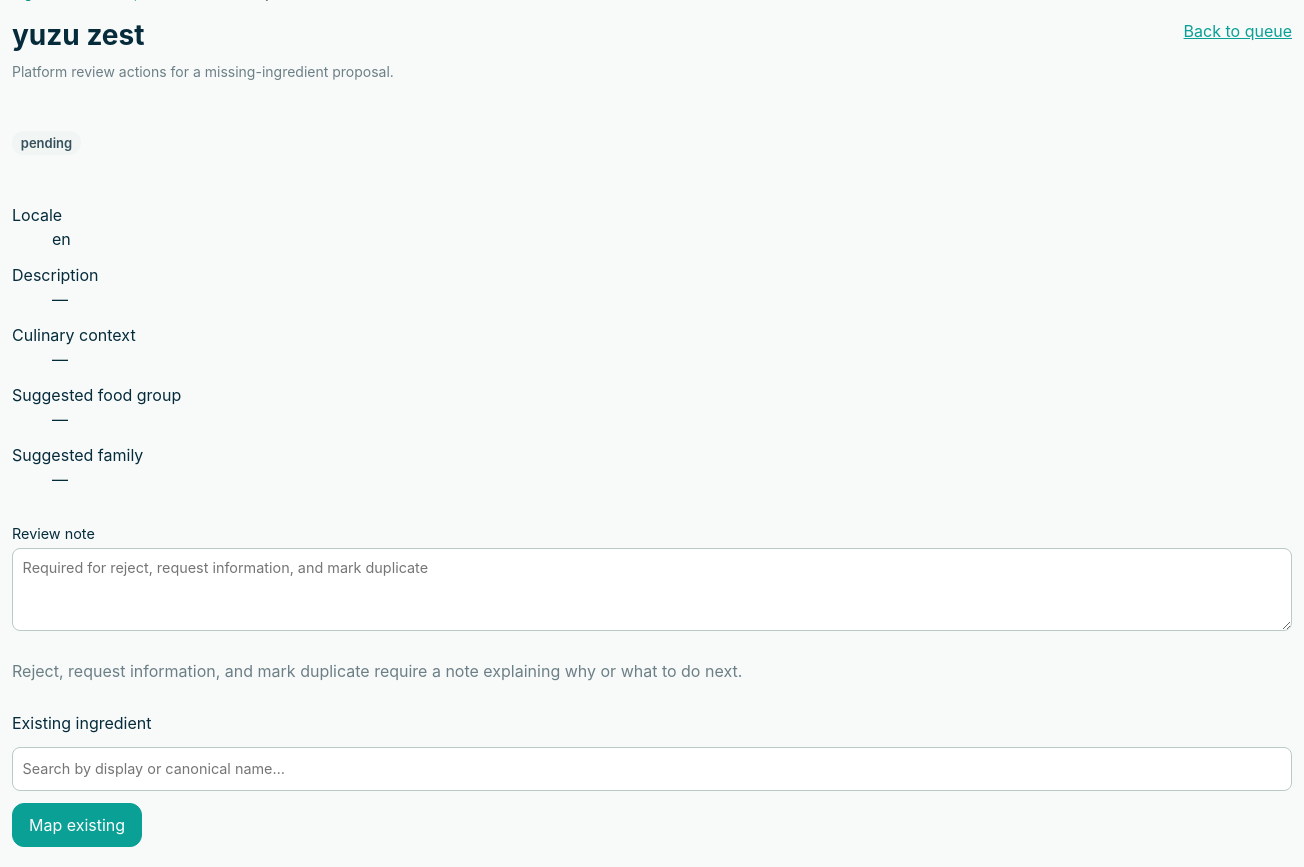
Test case: Ingredient proposal review › shows map-existing API errors without leaving the page stuck
Type "Yuzu" into the dropdown named "Existing ingredient" at (652, 769), box [12,747,1292,791]
(page scrolled)
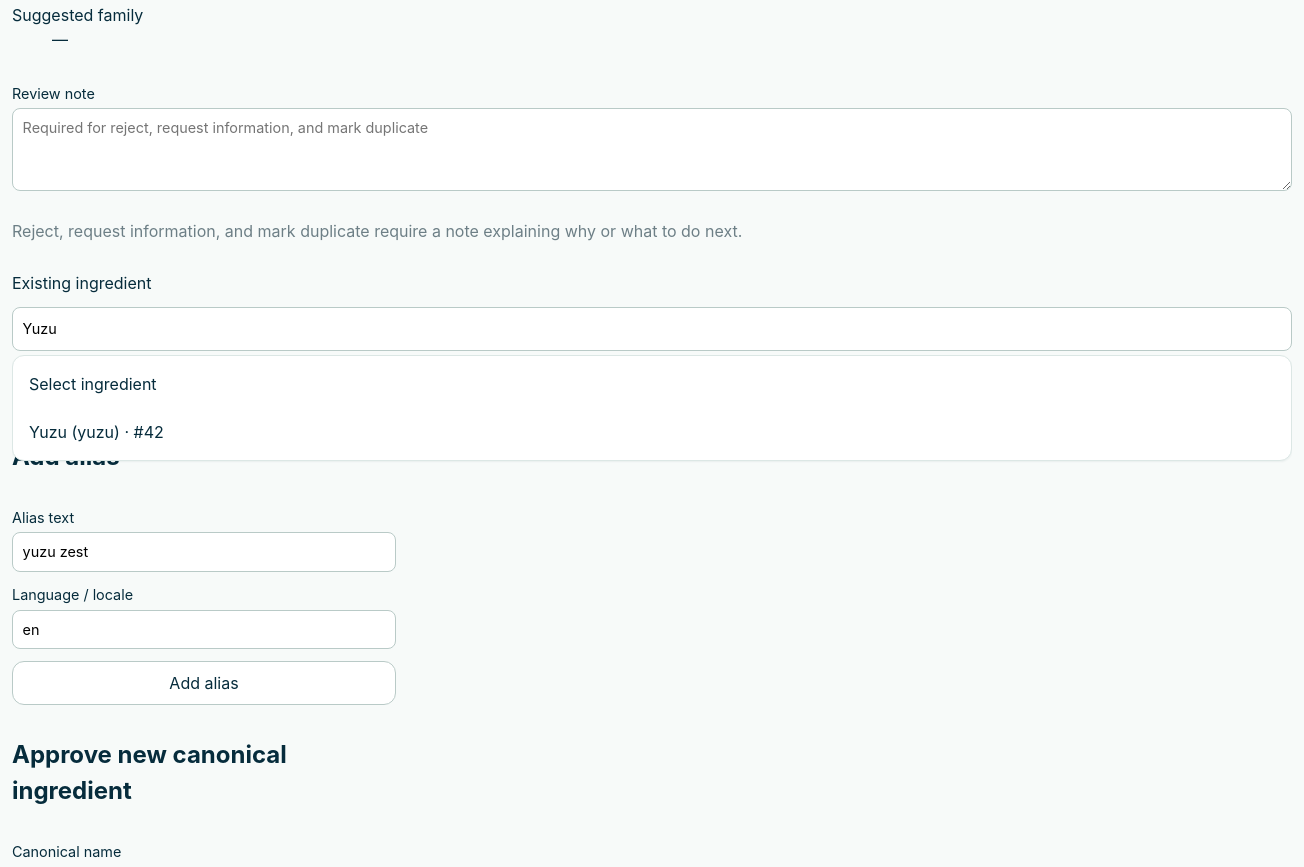
Click the option "Yuzu (yuzu) · #42" at (96, 432), box [17,408,1287,456]
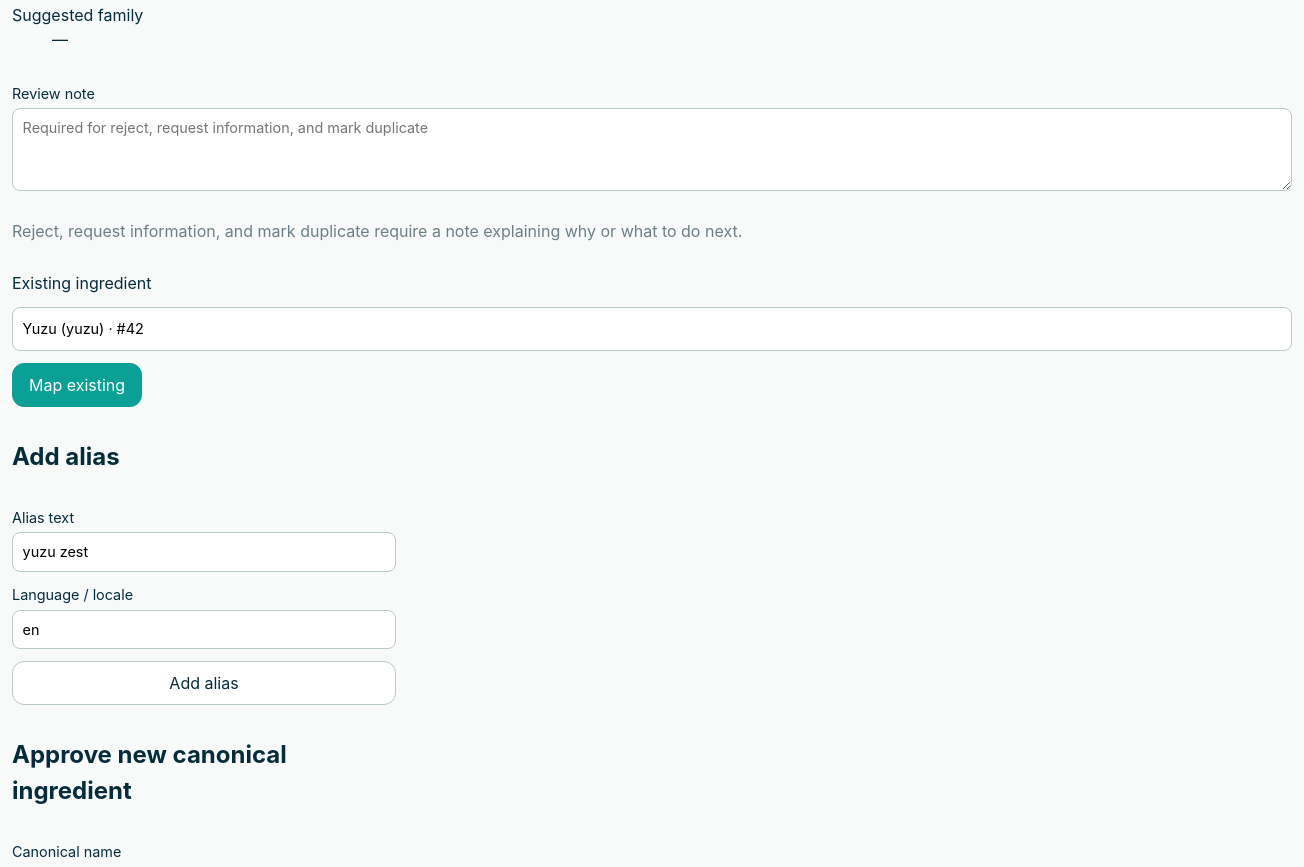
Click the button "Map existing" at (77, 385), box [12,363,142,407]
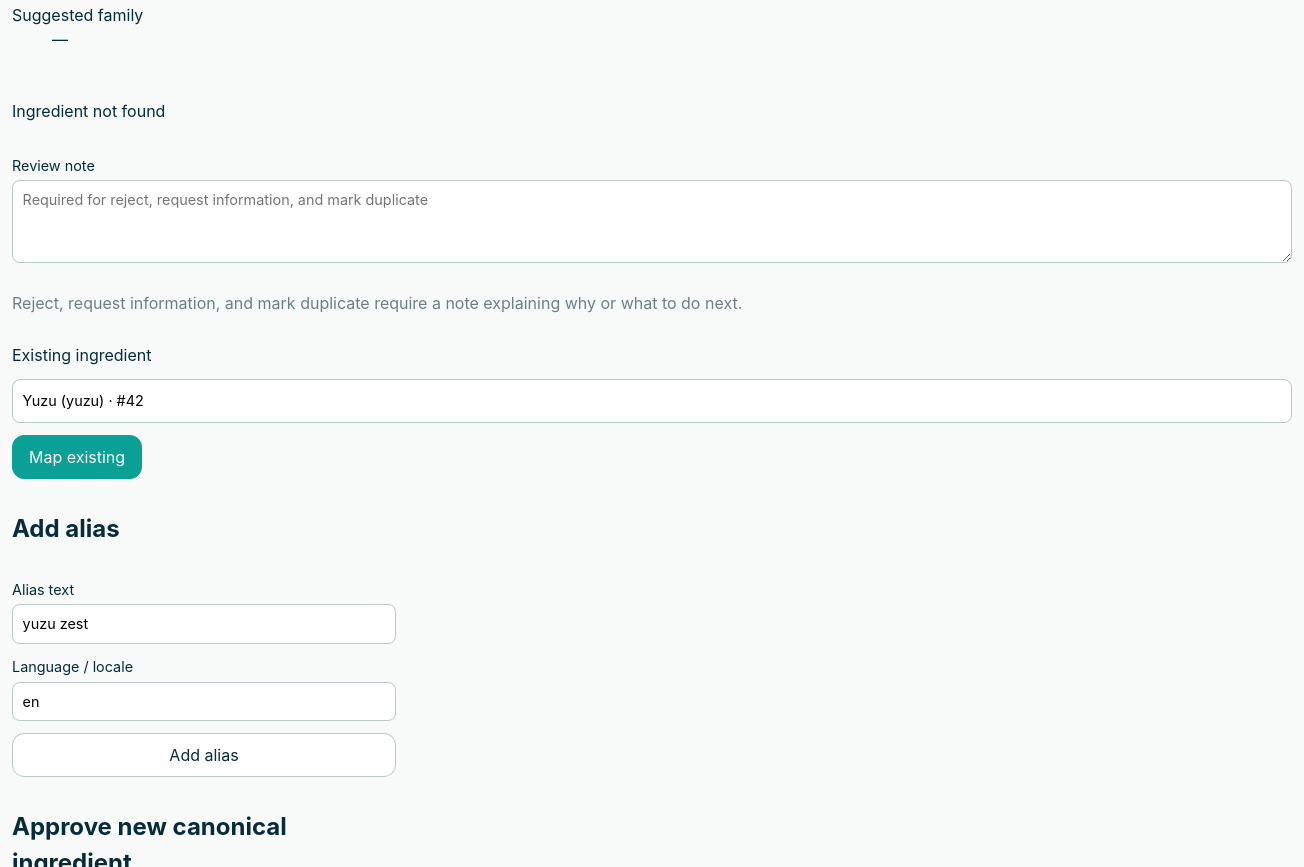
Check: the button "Map existing" is enabled, box [12,435,142,479]
Check: the text "Ingredient not found" is shown, box [12,101,165,121]
